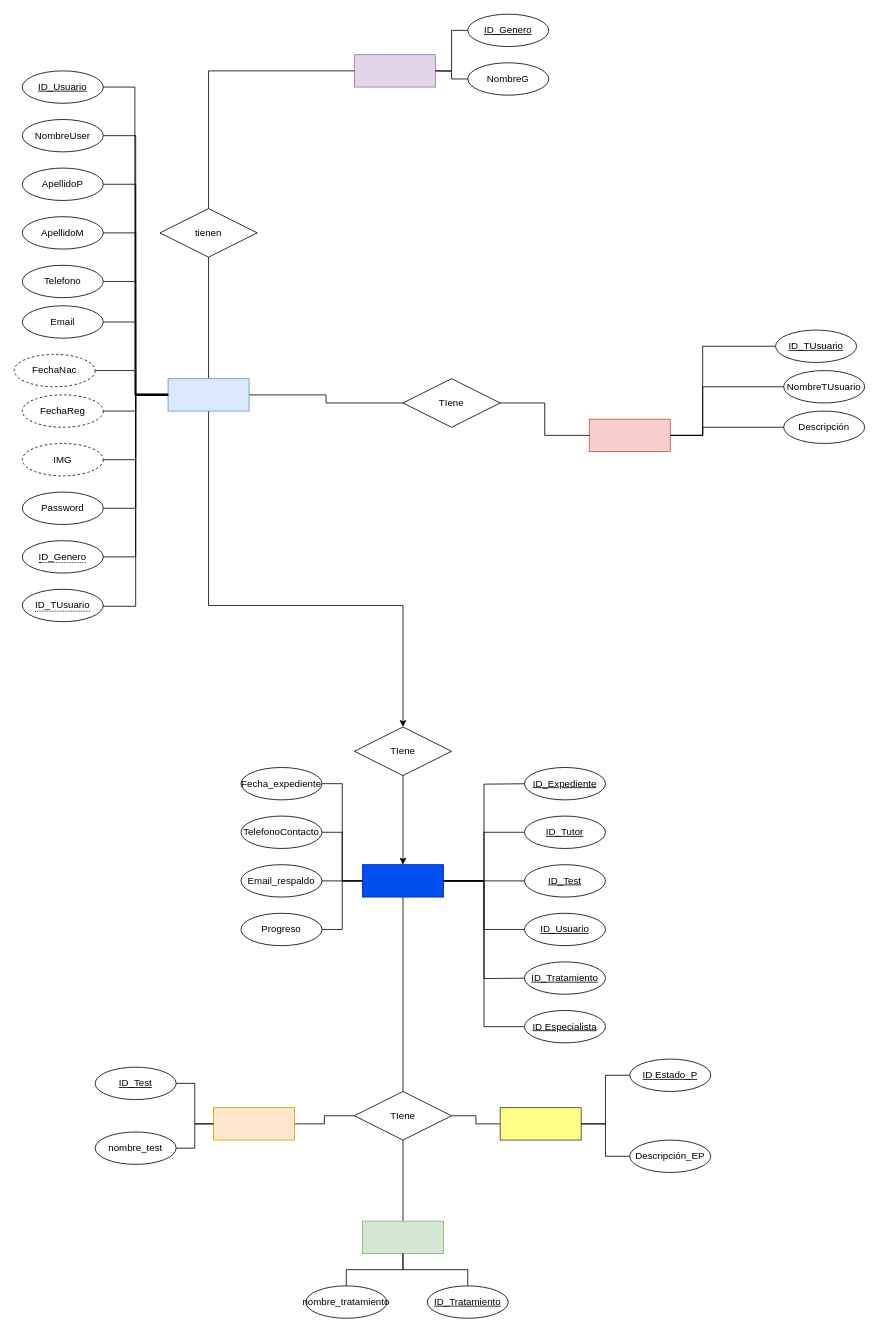
The diagram is 879 pixels wide and 1332 high, and some of its shapes have lost their labels. The shapes that lost their labels are listed below. From the top down, each one's centre as x and y in pixels, then its label:
[394,70]: Genero
[208,394]: Usuario
[629,435]: TipoUsuario
[402,880]: Expediente
[253,1123]: Test
[540,1123]: estado_p
[402,1236]: Tratamiento
